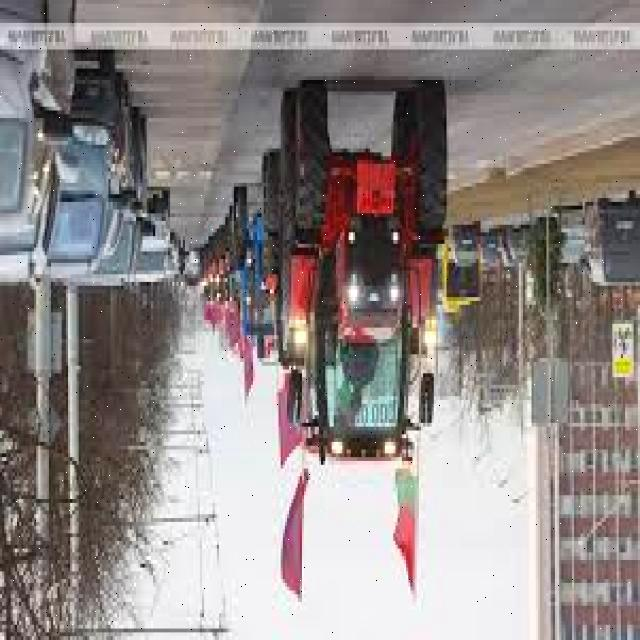Tratores - v5 YOLO V8L 2024-11-13: (276, 78, 447, 466), (233, 182, 280, 342)
